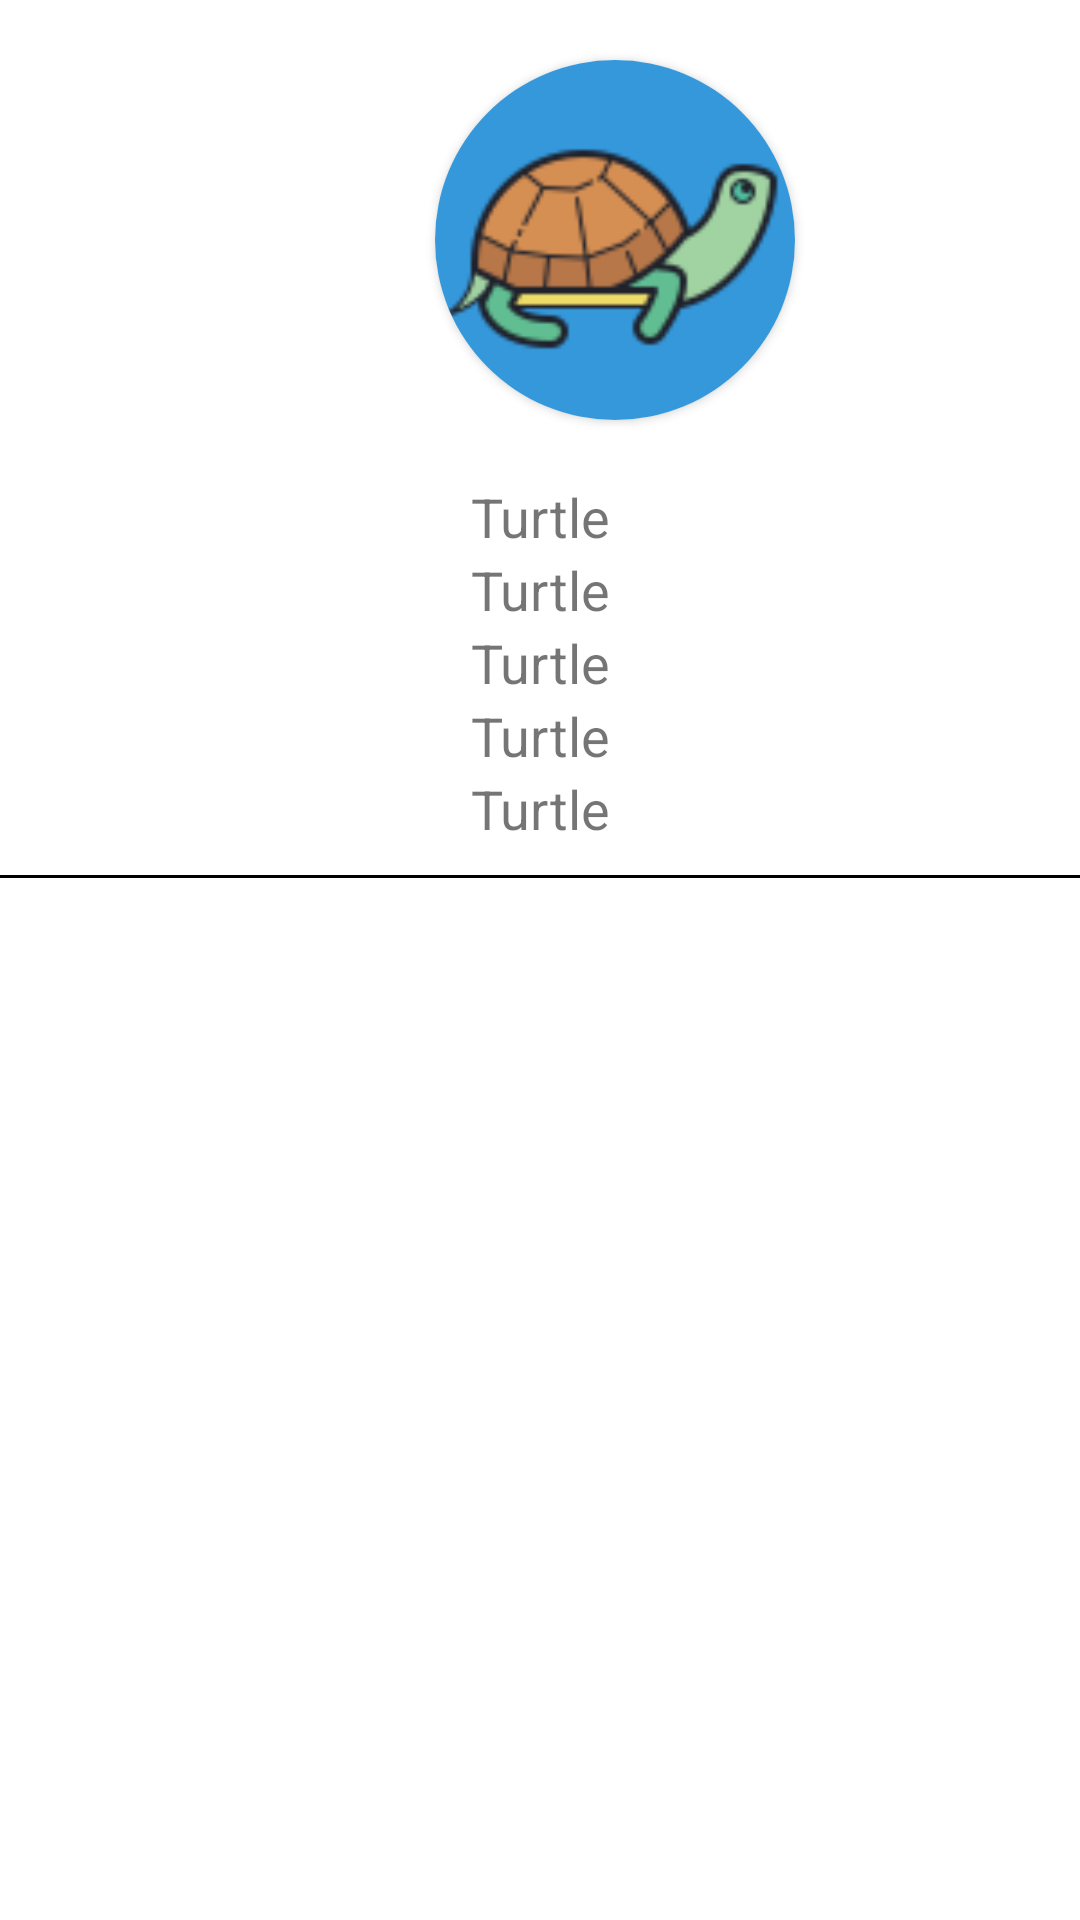

Locate icon controls on the screen. Image size 1080x1920, boxes as Rect(x1, y1, x2, y2).
Perfil Pet Image: Rect(435, 60, 795, 420)
